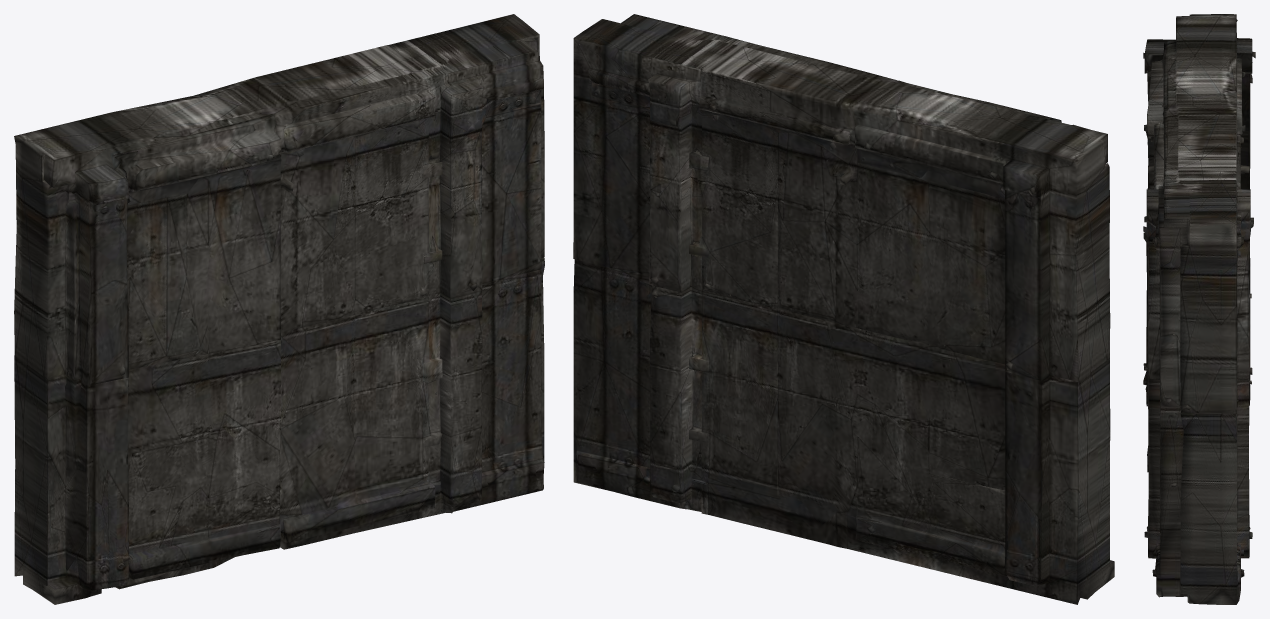
File: Wall Panel.glb
3 renders of one model, left to right at view 1: azimuth 30°, elevation 25°; view 2: azimuth 150°, elevation 25°; view 3: azimuth 270°, elevation 25°, orthographic. The views are drawn at different scales.
Visible parts, largest first — view 1: tripo_node_1c42a8f5-063f-4c05-8194-7039e8431556; view 2: tripo_node_1c42a8f5-063f-4c05-8194-7039e8431556; view 3: tripo_node_1c42a8f5-063f-4c05-8194-7039e8431556.
Boxes of the visible parts, box(x1,y1,x2,y2) form: tripo_node_1c42a8f5-063f-4c05-8194-7039e8431556: box(14, 14, 544, 604); tripo_node_1c42a8f5-063f-4c05-8194-7039e8431556: box(573, 14, 1114, 604); tripo_node_1c42a8f5-063f-4c05-8194-7039e8431556: box(1143, 14, 1255, 604).
Size of the model in its own units: 0.9766 by 0.8262 by 0.22.
1 material, 1 textured.
